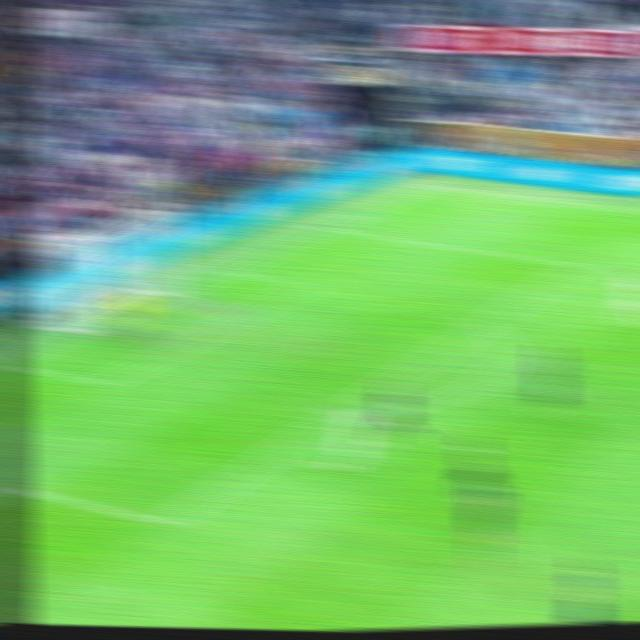bigarea_bottom_inner: (148, 508, 186, 536)
bigarea_top_inner: (562, 249, 600, 277)
bigarea_top_outter: (309, 216, 344, 237)
bottom_arc_area_intersection: (324, 399, 359, 424)
corner: (409, 175, 445, 193)
smallarea_bottom_inner: (82, 366, 123, 399)
smallarea_bottom_outter: (2, 348, 25, 374)
smallarea_top_inner: (291, 273, 327, 296)
smallarea_top_outter: (209, 259, 245, 280)
top_arc_area_intersection: (467, 311, 502, 337)
